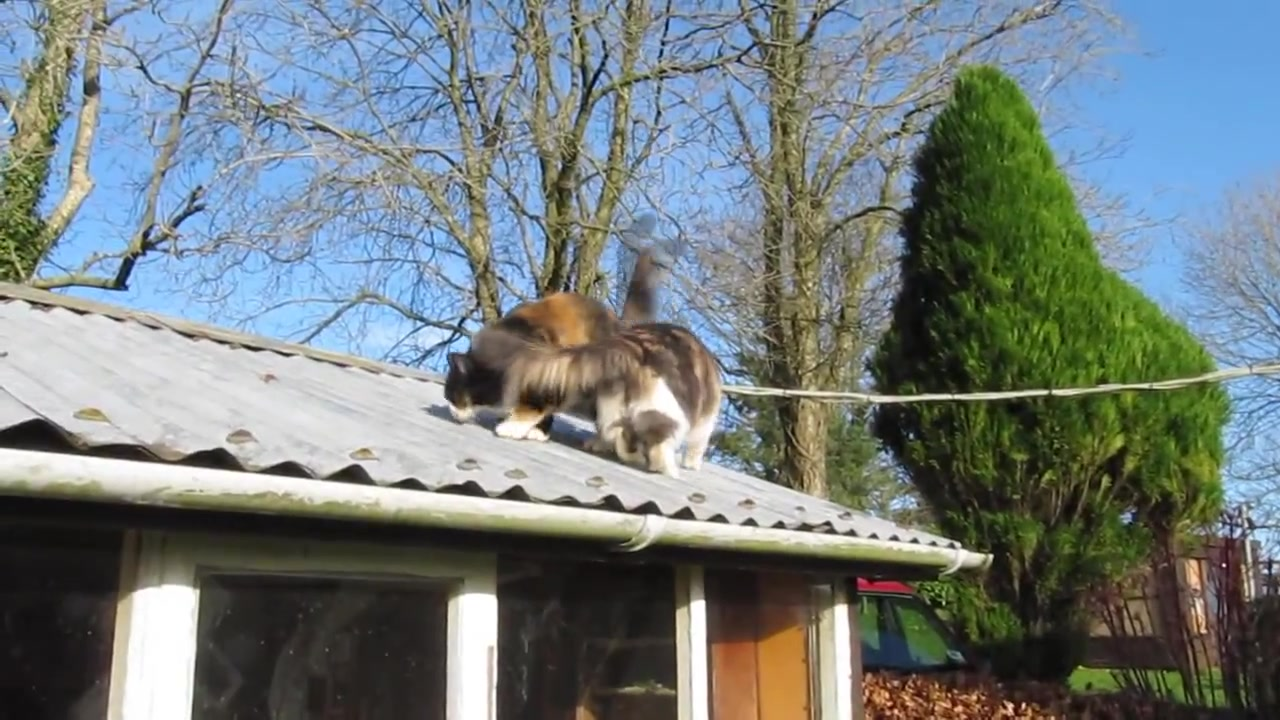cat: (469, 248, 726, 483)
